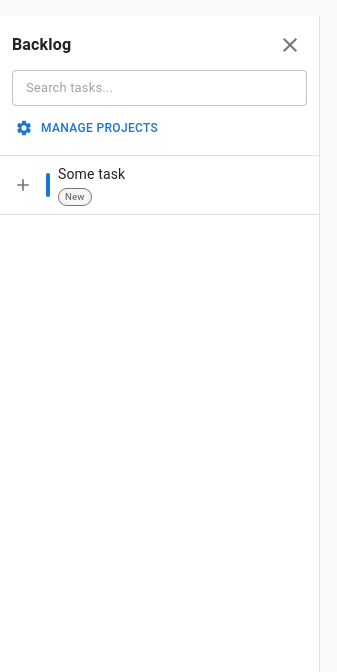
Test: BacklogDrawer › should show "no tasks match" message when filters hide all tasks
The width and height of the screenshot is (337, 672).
Search for something that doesn't exist
Type "nonexistent" into the field with placeholder "Search tasks...". click: point(160, 88)
box: [12,70,307,106]
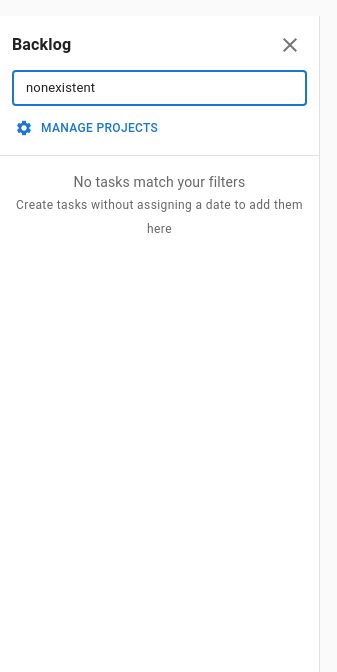
Expected: the text "No tasks match your filters" is shown, [74,174,245,190]
